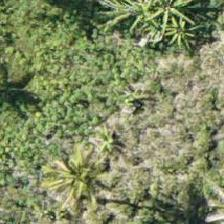coconut_tree: (25, 132, 115, 222), (120, 0, 210, 51)
